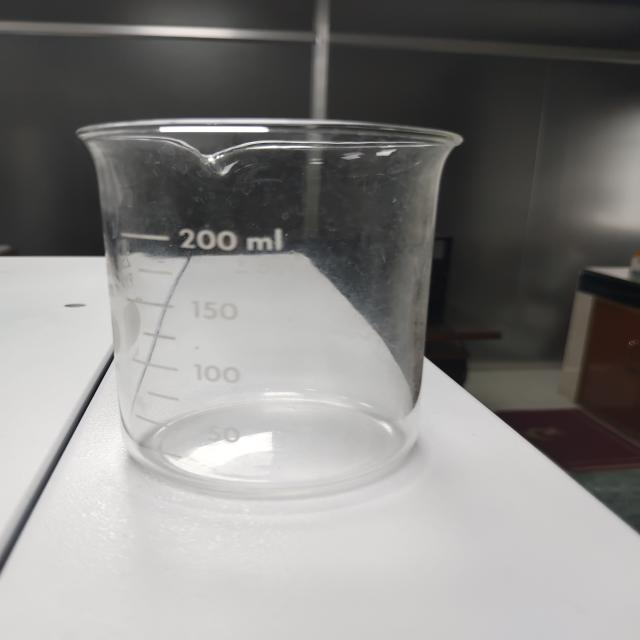Beaker: (34, 88, 498, 534)
